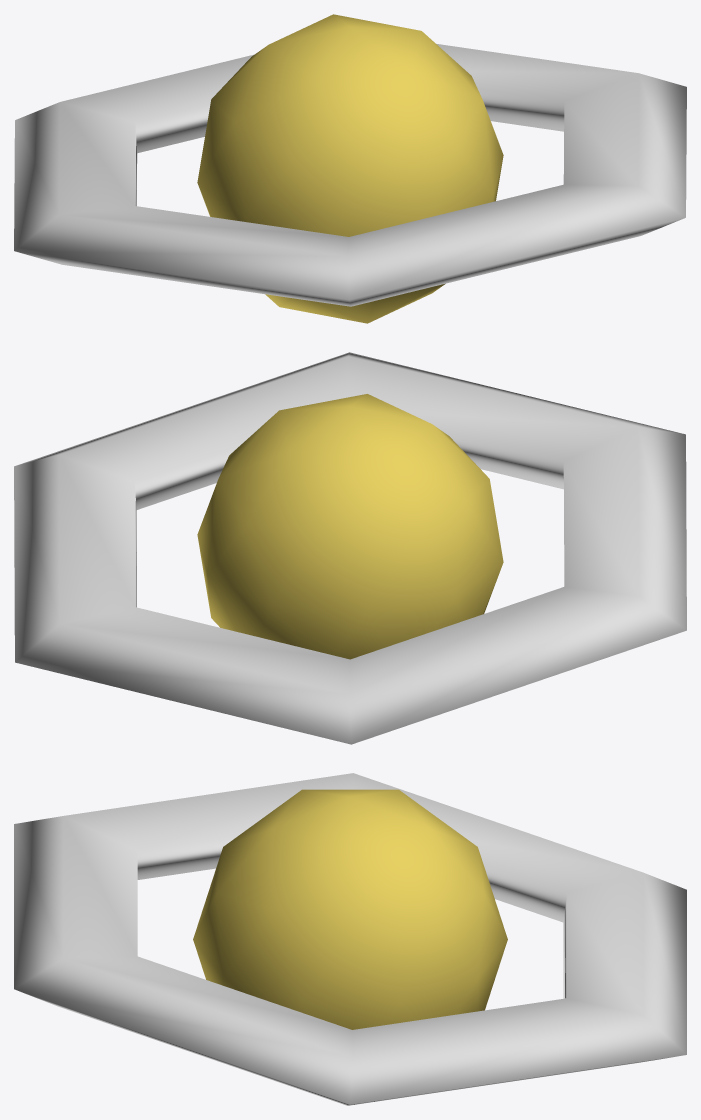
The model's file is Saturn.glb.
3 views of the same model, one above another, from view 1: azimuth 30°, elevation 25°; view 2: azimuth 150°, elevation 25°; view 3: azimuth 270°, elevation 25° (orthographic).
Visible parts, largest first — view 1: Ring, Planet; view 2: Ring, Planet; view 3: Ring, Planet.
Boxes of the visible parts, box(x1,y1,x2,y2) form: Ring: box(14, 43, 686, 306); Planet: box(197, 14, 503, 323); Ring: box(14, 352, 686, 744); Planet: box(197, 394, 503, 659); Ring: box(14, 773, 686, 1105); Planet: box(193, 789, 507, 1029).
Bounding box in the file's own units: 8.65 × 3.48 × 7.44.
